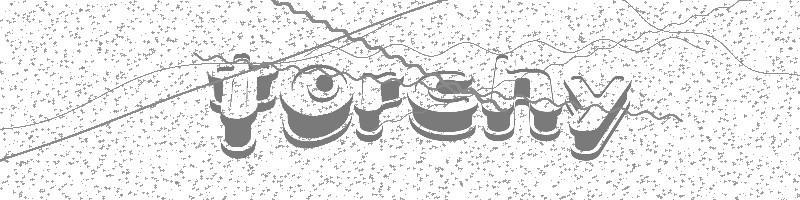c: (407, 71, 478, 141)
h: (482, 55, 564, 140)
o: (280, 65, 353, 148)
r: (355, 72, 403, 141)
t: (208, 53, 277, 158)
y: (564, 77, 630, 159)
